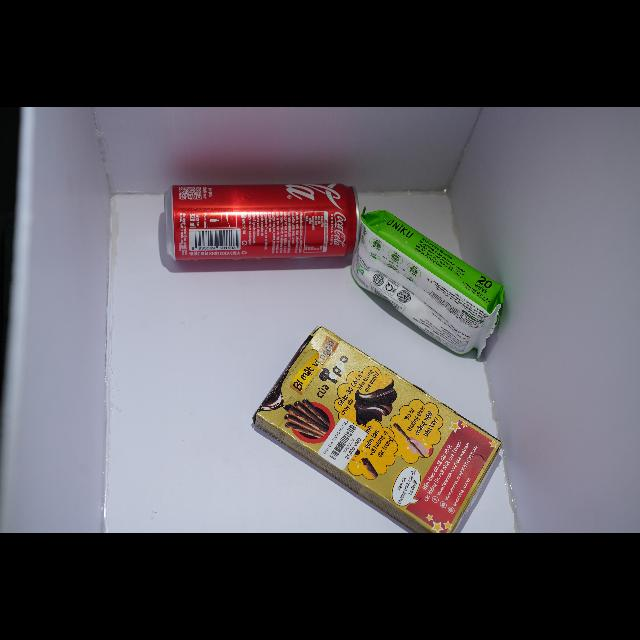banh_toppo_socola: (254, 328, 501, 534)
coca_cola: (165, 183, 357, 261)
khan_giay: (351, 210, 504, 359)
